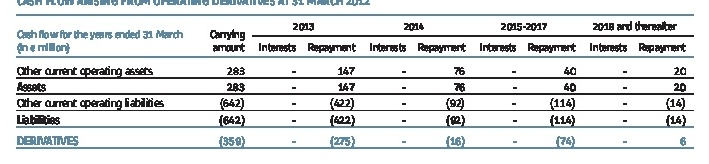table: (0, 0, 709, 164)
